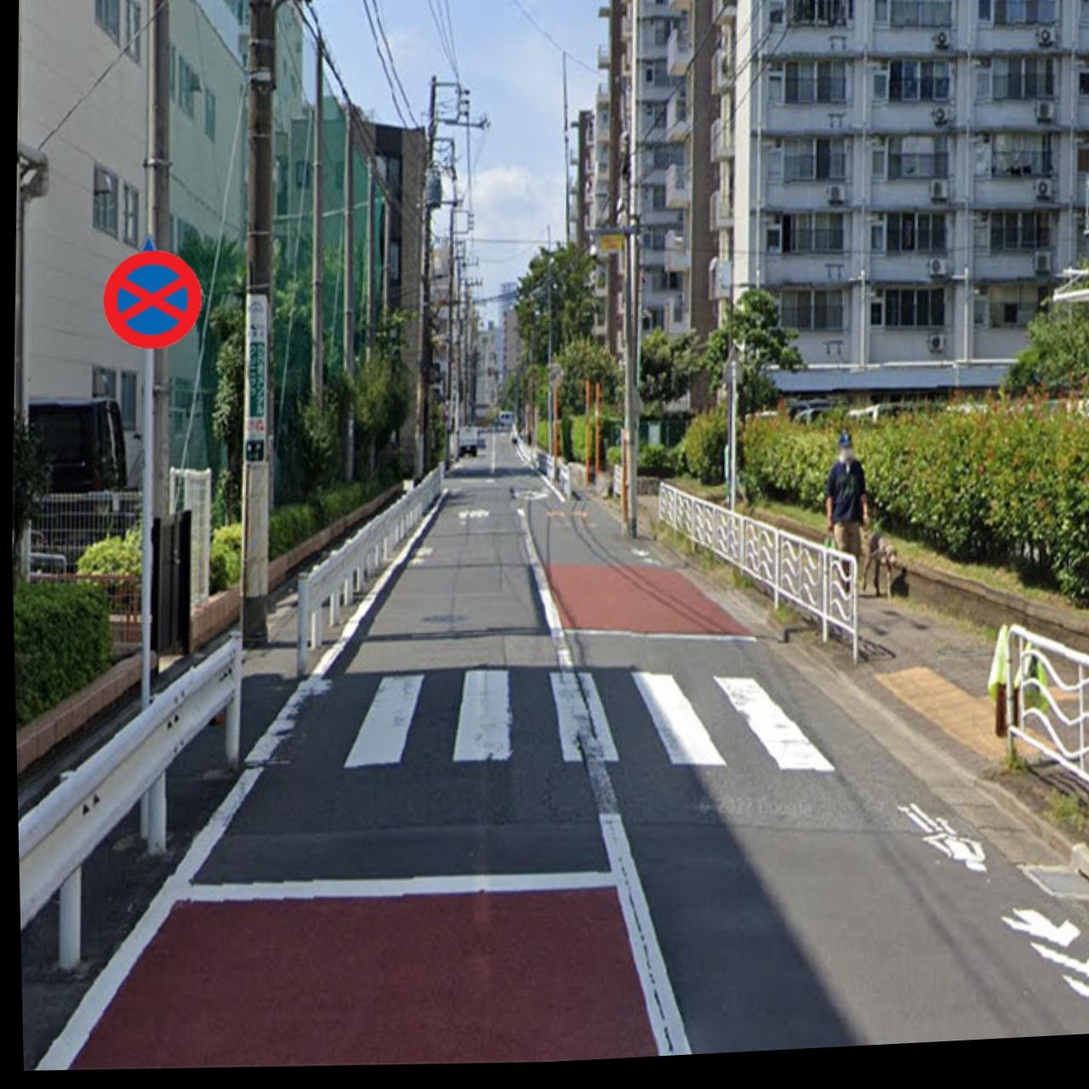stop_sign: (101, 247, 207, 355)
